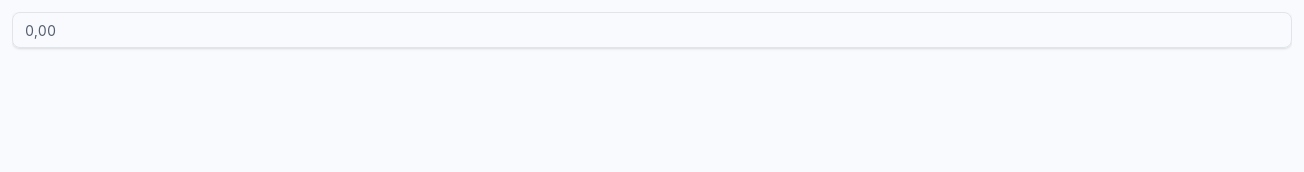
Test case: DecimalInput — onChange con texto › bloquea 'e' (notación científica)
Type "1e5" into the field named "num" at (652, 30), box [12,12,1292,48]
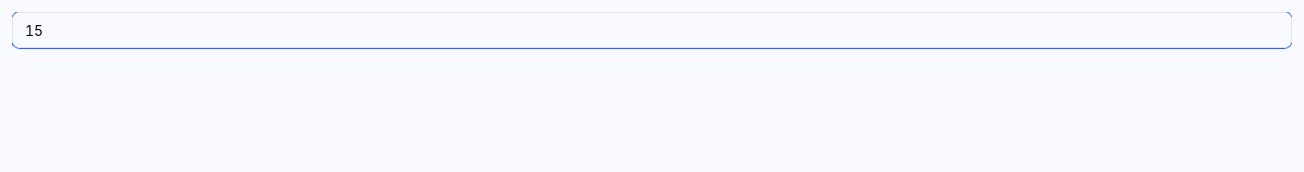
Expected: the field named "num" holds "15", [12,12,1292,48]
